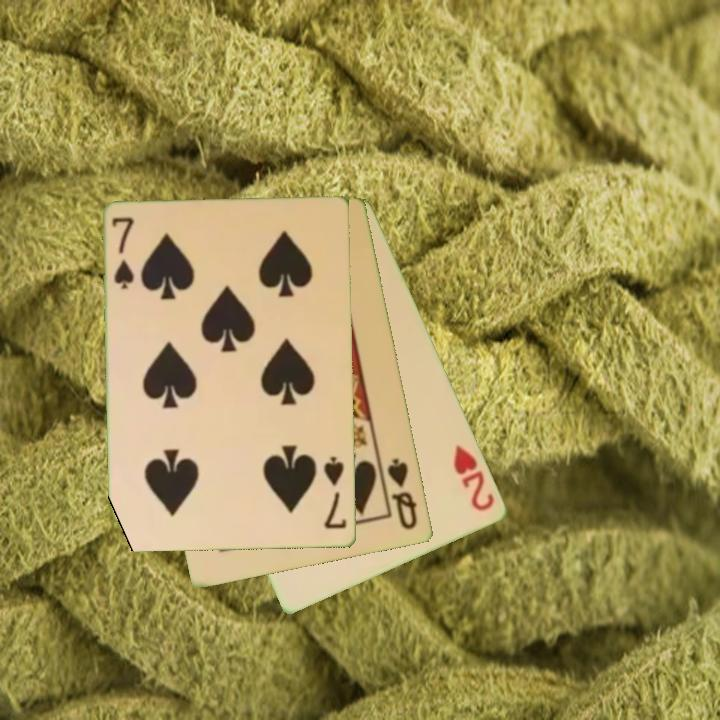2h: (450, 442, 498, 514)
7s: (108, 214, 138, 293), (321, 453, 350, 532)
Qs: (384, 455, 421, 533)
